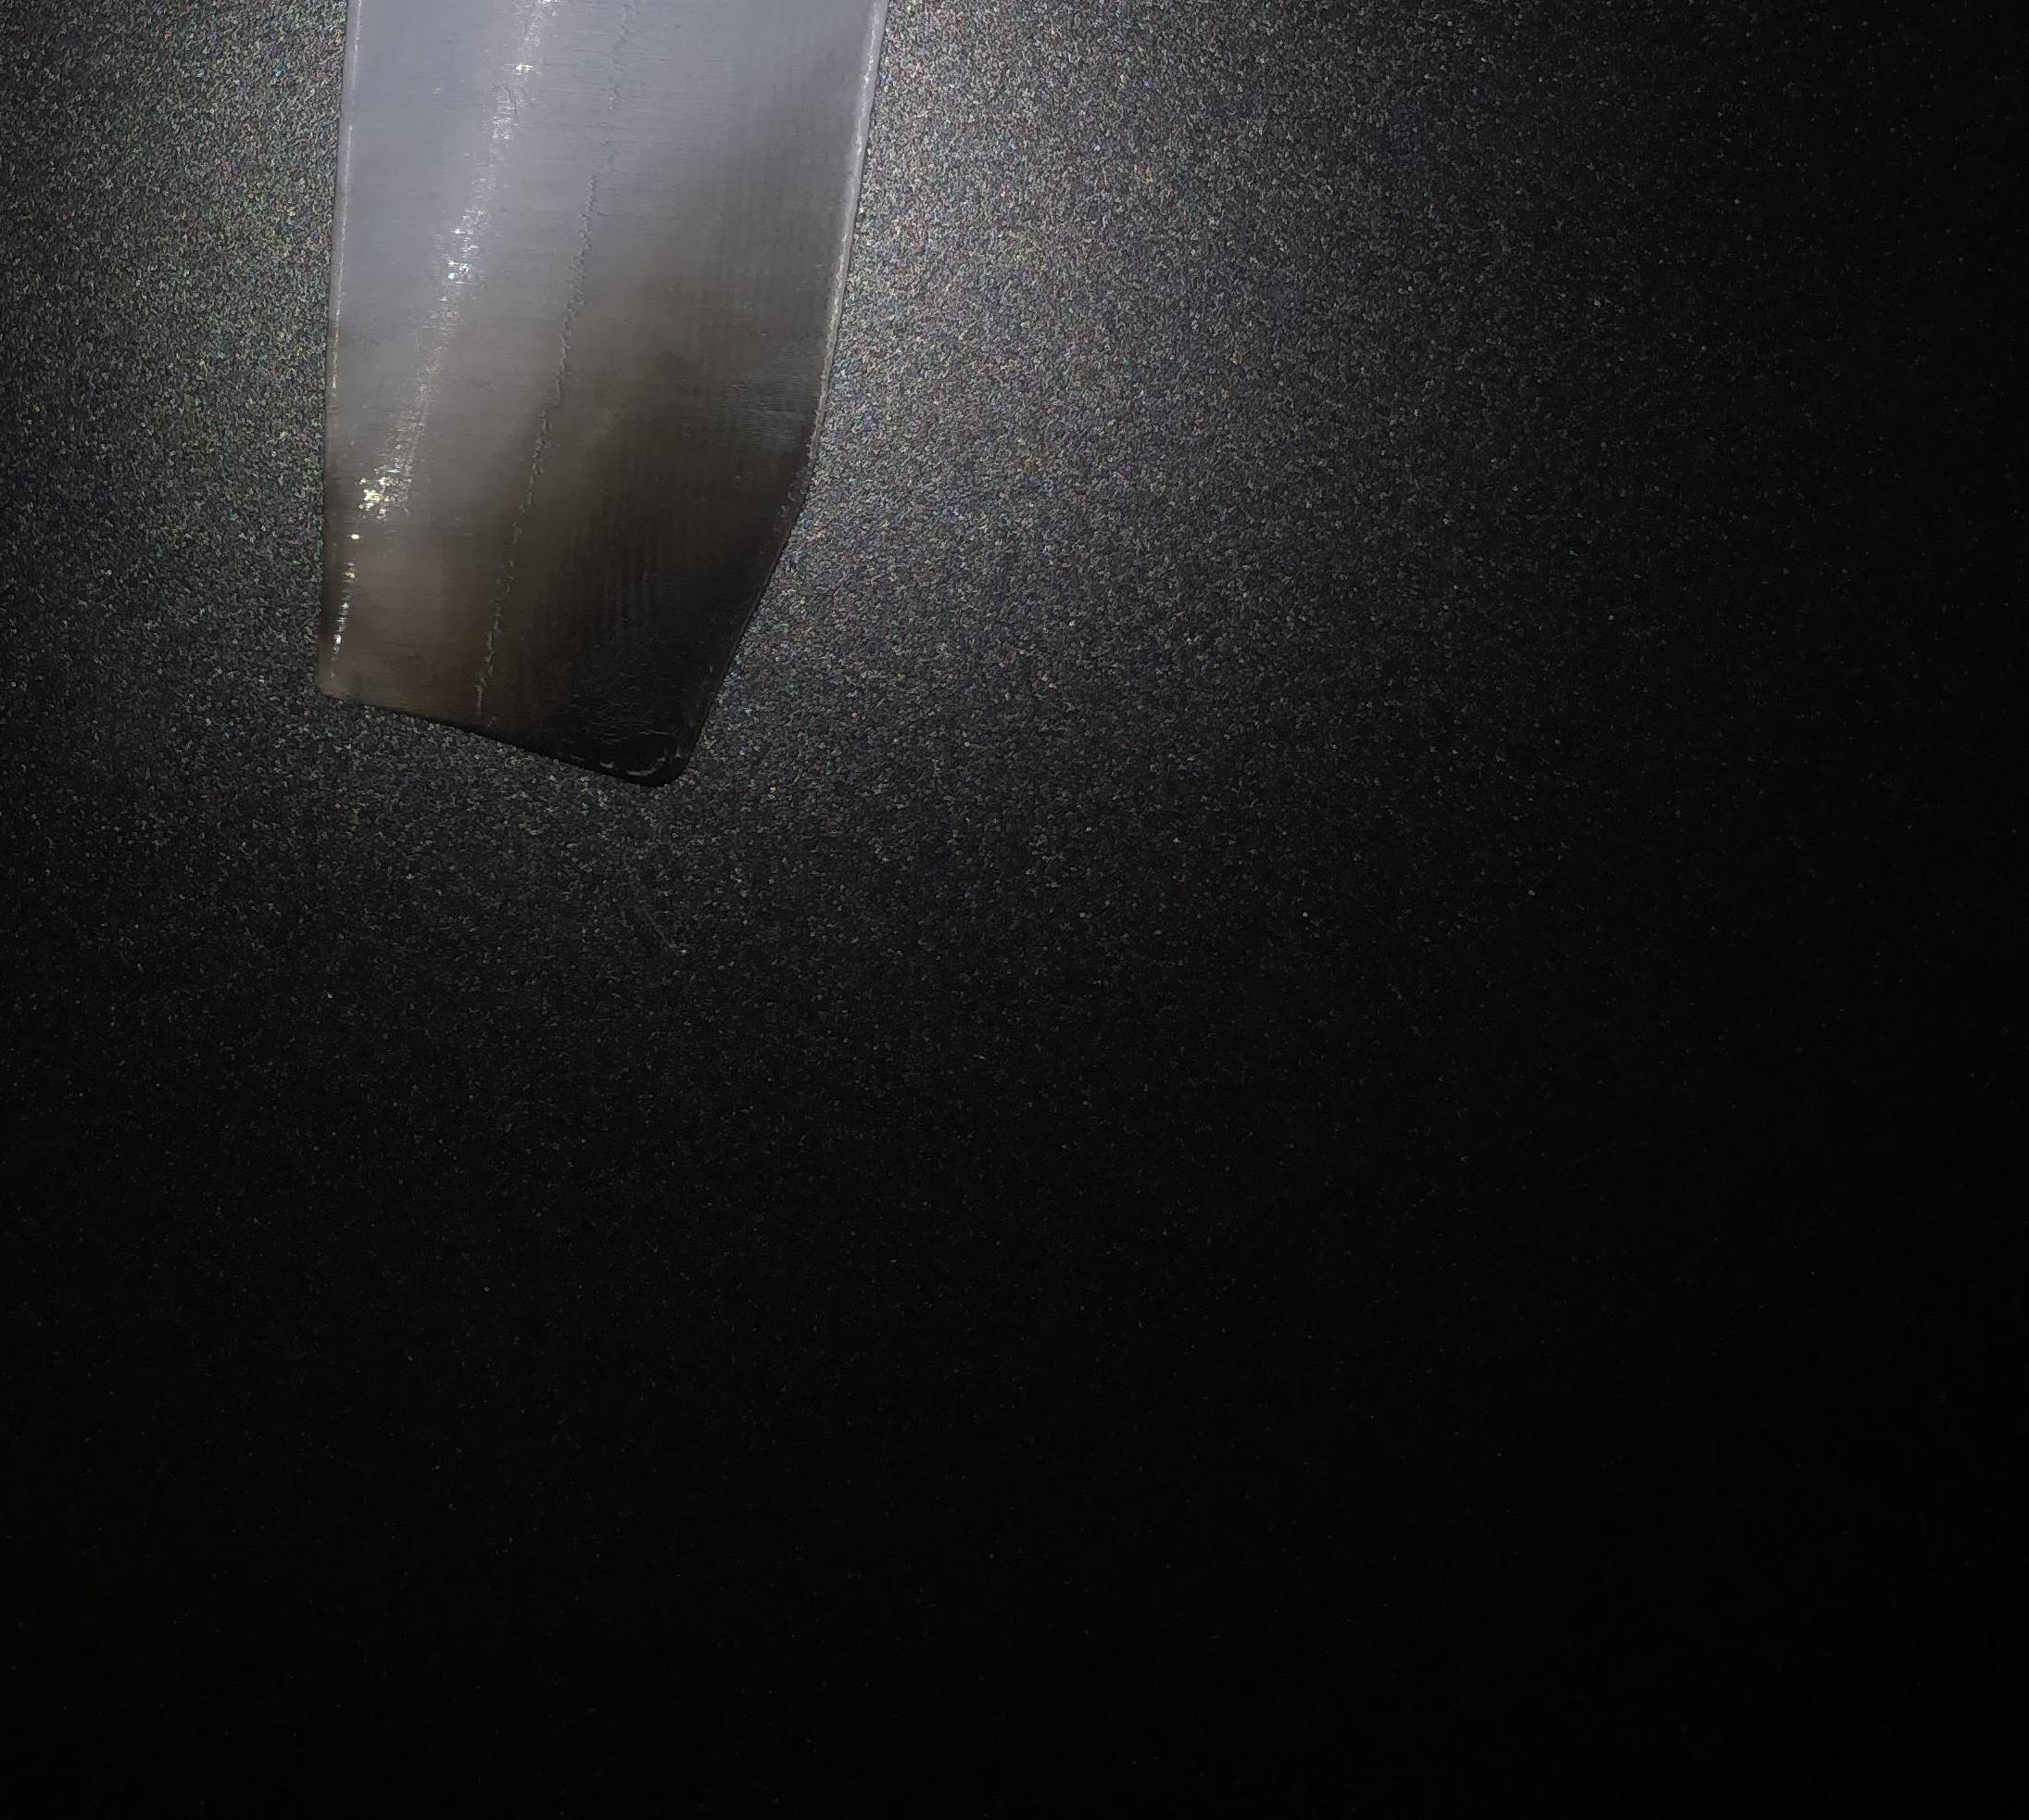ablation: (369, 467, 701, 729)
